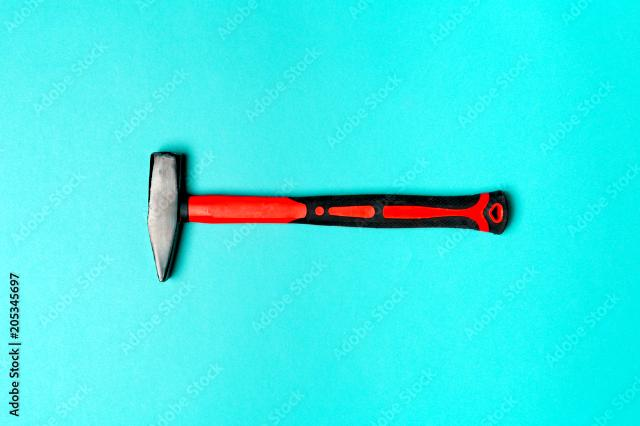hammer: (142, 142, 520, 290)
